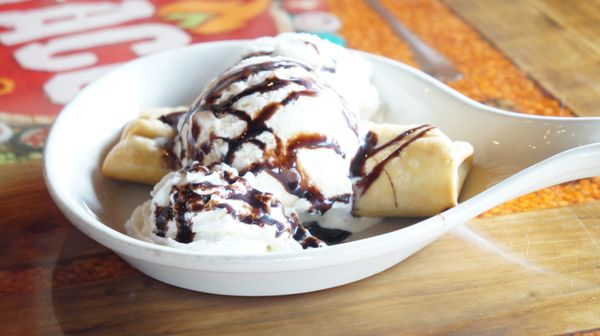sushi: (42, 29, 580, 301)
